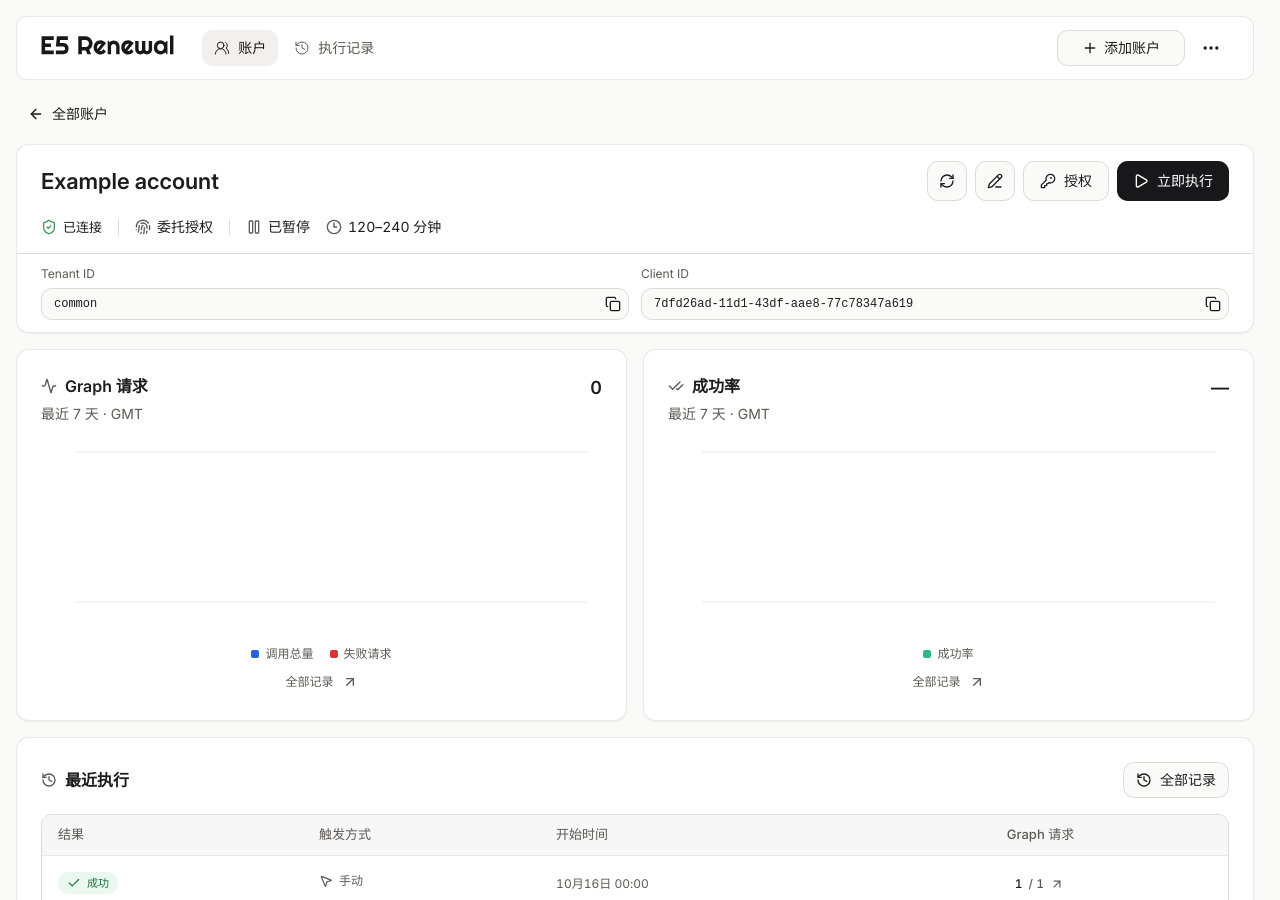
Test case: opens request results directly from an account execution count
The image size is (1280, 900).
Click the button named "查看 1 次请求，其中 1 次成功": click(1039, 884) [1007,868,1072,899]
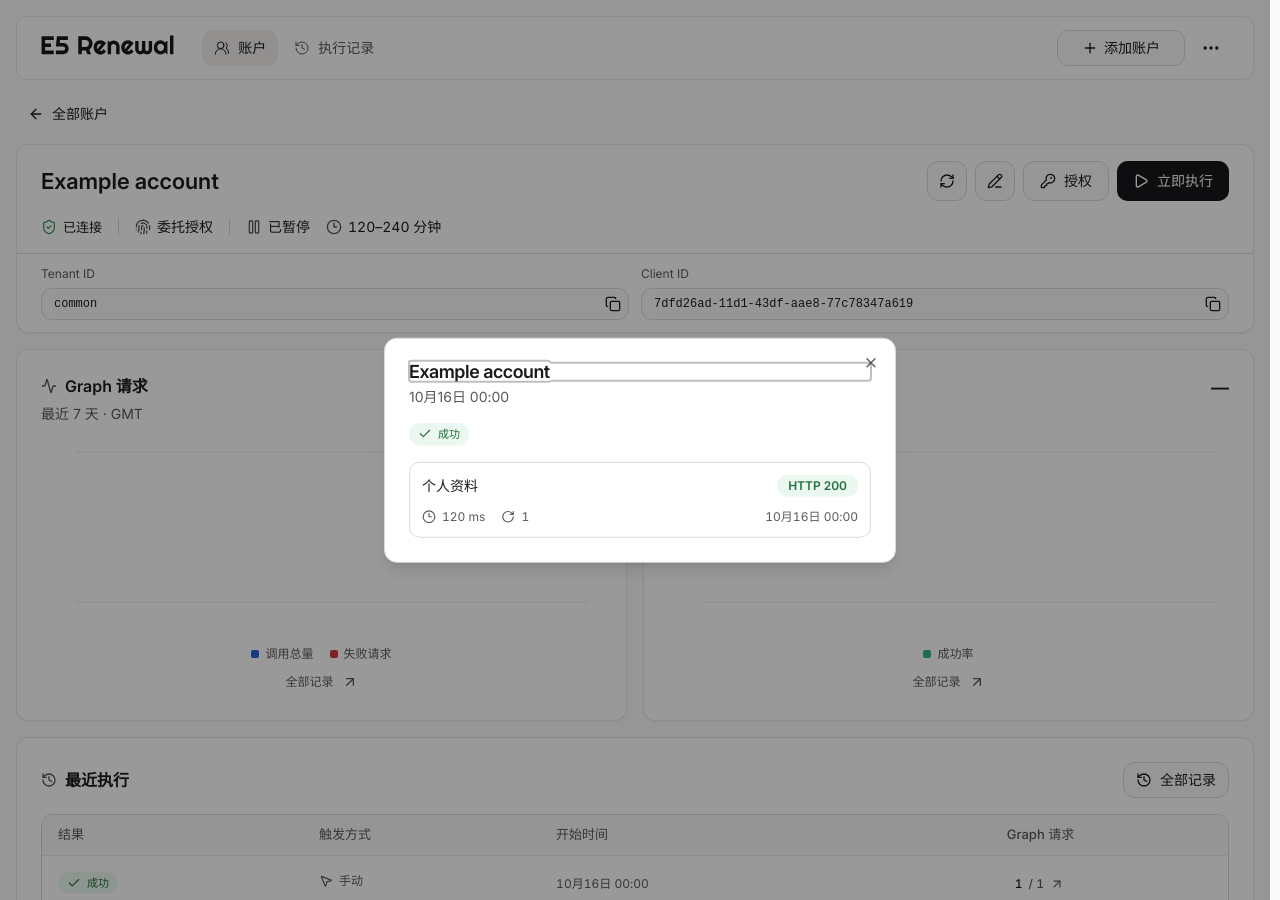
Expected: the text "HTTP 200" is shown, [777,474,858,496]
Expected: the text "个人资料" is shown, [422,475,478,495]
